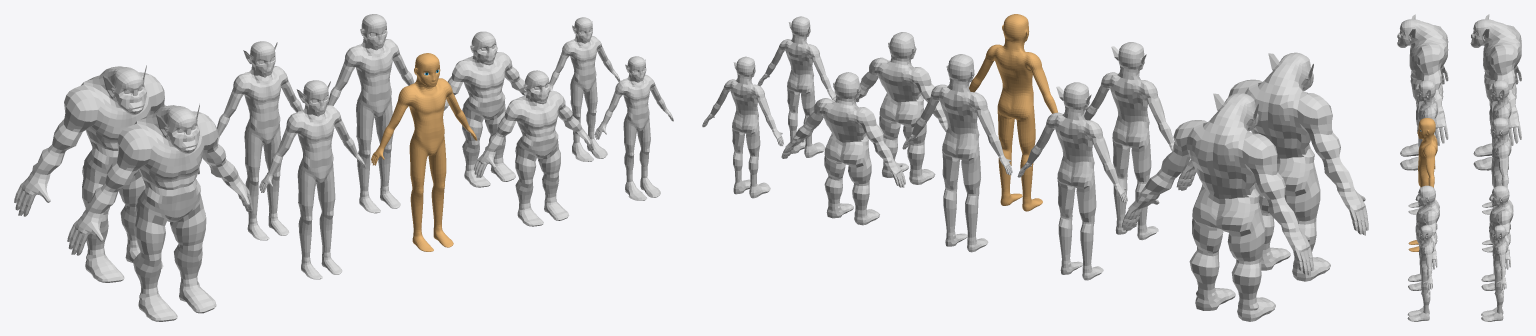
File: Test_extra_Geometry.fbx
3 renders of one model, left to right at view 1: azimuth 30°, elevation 25°; view 2: azimuth 150°, elevation 25°; view 3: azimuth 270°, elevation 25°, orthographic. The views are drawn at different scales.
Parts seen in each view (by area): view 1: Orc, Orc.001, Elf, Dwarf, Human, Elf.001, Human.001, Dwarf.001, Hobbit, Hobbit.001; view 2: Orc.001, Orc, Elf.001, Human.001, Dwarf.001, Elf, Human, Dwarf, Hobbit.001, Hobbit; view 3: Orc, Orc.001, Dwarf, Dwarf.001, Human.001, Human, Hobbit.001, Hobbit, Elf, Elf.001.
Part boxes in pixels (<box>): Orc: <box>67,104,252,321</box>; Orc.001: <box>14,65,199,282</box>; Elf: <box>259,80,365,279</box>; Dwarf: <box>474,70,593,226</box>; Human: <box>371,53,477,251</box>; Elf.001: <box>217,41,302,240</box>; Human.001: <box>327,14,414,213</box>; Dwarf.001: <box>444,31,526,187</box>; Hobbit: <box>594,56,673,200</box>; Hobbit.001: <box>549,17,620,161</box>; Orc.001: <box>1121,93,1313,321</box>; Orc: <box>1176,52,1368,281</box>; Elf.001: <box>1017,82,1127,280</box>; Human.001: <box>902,54,1012,252</box>; Dwarf.001: <box>781,72,905,225</box>; Elf: <box>1084,42,1174,240</box>; Human: <box>969,14,1057,211</box>; Dwarf: <box>856,32,947,184</box>; Hobbit.001: <box>702,56,783,198</box>; Hobbit: <box>757,16,836,157</box>; Orc: <box>1397,14,1448,170</box>; Orc.001: <box>1470,14,1521,170</box>; Dwarf: <box>1408,185,1439,290</box>; Dwarf.001: <box>1481,185,1513,290</box>; Human.001: <box>1482,117,1511,252</box>; Human: <box>1408,118,1437,251</box>; Hobbit.001: <box>1481,225,1507,321</box>; Hobbit: <box>1407,225,1434,321</box>; Elf: <box>1408,79,1437,214</box>; Elf.001: <box>1482,79,1511,214</box>.
Bounding box in the file's own units: 645 × 210 × 170.
